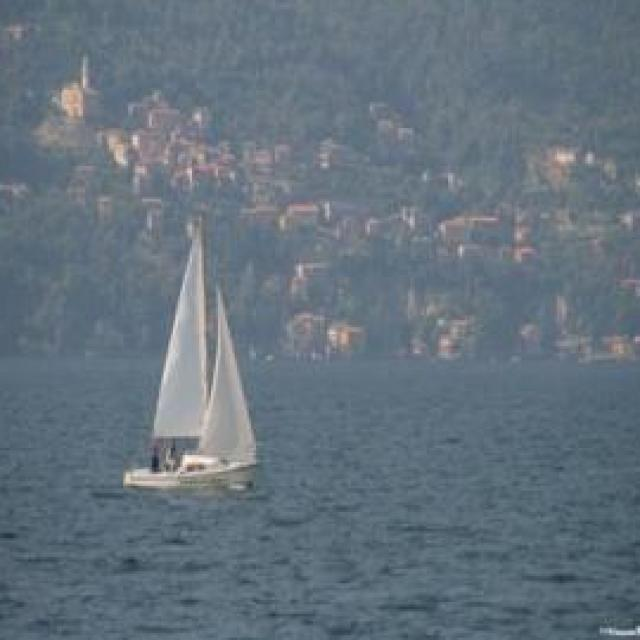sailboat: (124, 211, 262, 495)
